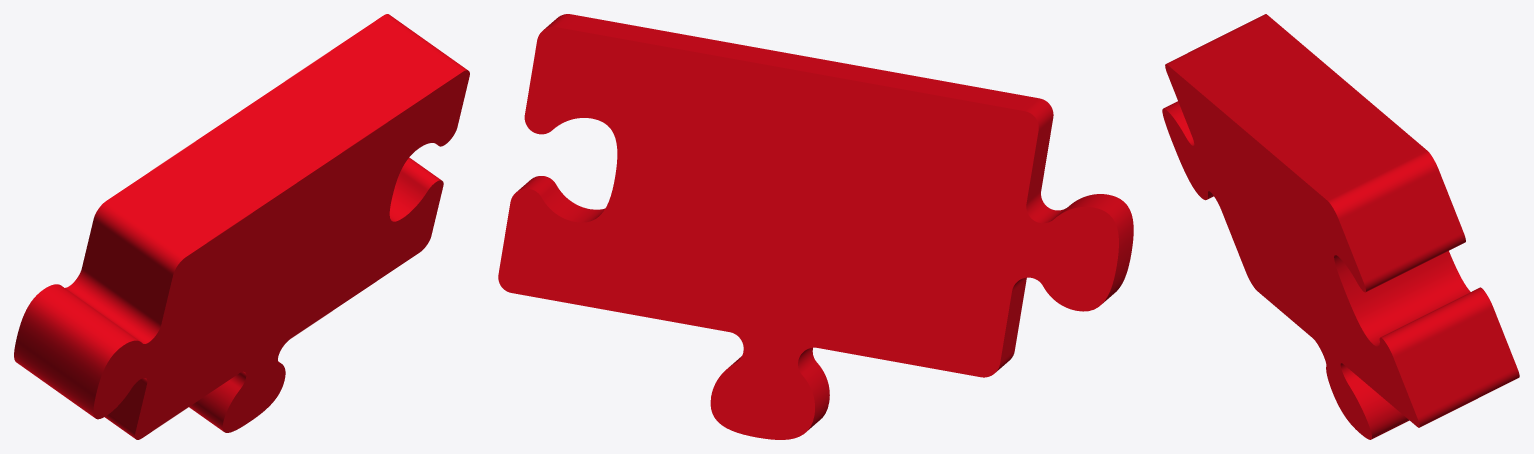
File: PuzzleTest.glb
3 renders of one model, left to right at view 1: azimuth 30°, elevation 25°; view 2: azimuth 150°, elevation 25°; view 3: azimuth 270°, elevation 25°, orthographic. The views are drawn at different scales.
Parts seen in each view (by area): view 1: Curve.007; view 2: Curve.007; view 3: Curve.007.
Part boxes in pixels (<box>): Curve.007: <box>14,14,469,439</box>; Curve.007: <box>498,14,1133,439</box>; Curve.007: <box>1162,14,1519,439</box>.
Size of the model in its own units: 0.7641 by 0.5213 by 0.4548.
